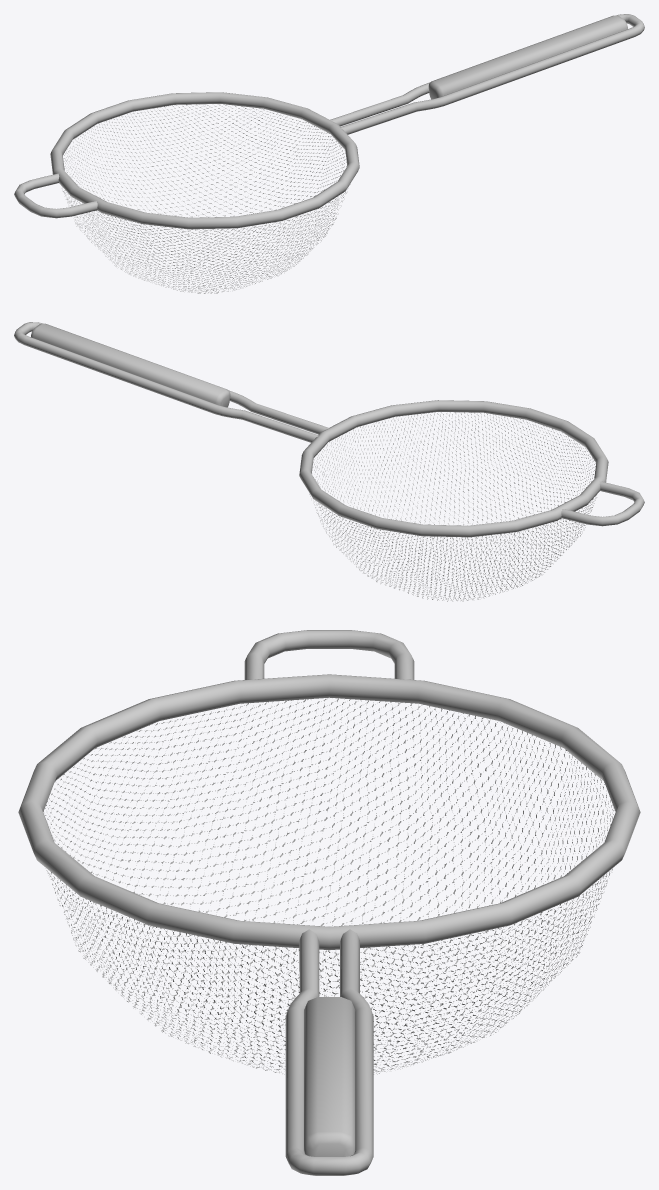
The model's file is Soup Strainer.fbx.
3 views of the same model, one above another, from view 1: azimuth 30°, elevation 25°; view 2: azimuth 150°, elevation 25°; view 3: azimuth 270°, elevation 25° (orthographic). The views are drawn at different scales.
Parts seen in each view (by area): view 1: Soup Strainer; view 2: Soup Strainer; view 3: Soup Strainer.
Part boxes in pixels (x1,y1,x2,y2): Soup Strainer: (14,14,644,293); Soup Strainer: (14,322,644,601); Soup Strainer: (18,630,640,1175).
Size of the model in its own units: 57.07 by 13.86 by 24.96.
2 materials, 2 textured.
